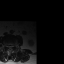CCS_normal: (9, 44, 10, 50)
LFS_normal: (12, 44, 14, 48)
LLS_normal: (10, 45, 12, 49)
RFS_normal: (6, 44, 8, 48)
RLS_normal: (8, 44, 9, 48)
